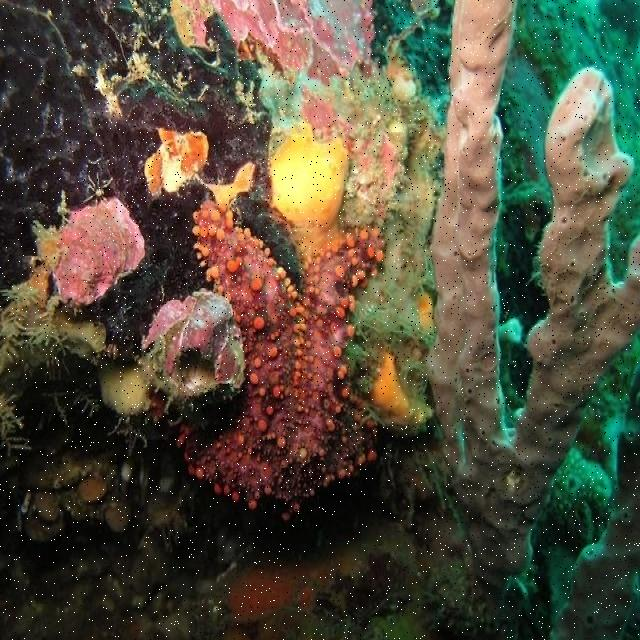aquatic plants: (427, 3, 639, 594)
reefs: (0, 0, 298, 366), (256, 60, 440, 443), (181, 202, 387, 525), (170, 2, 376, 82)
